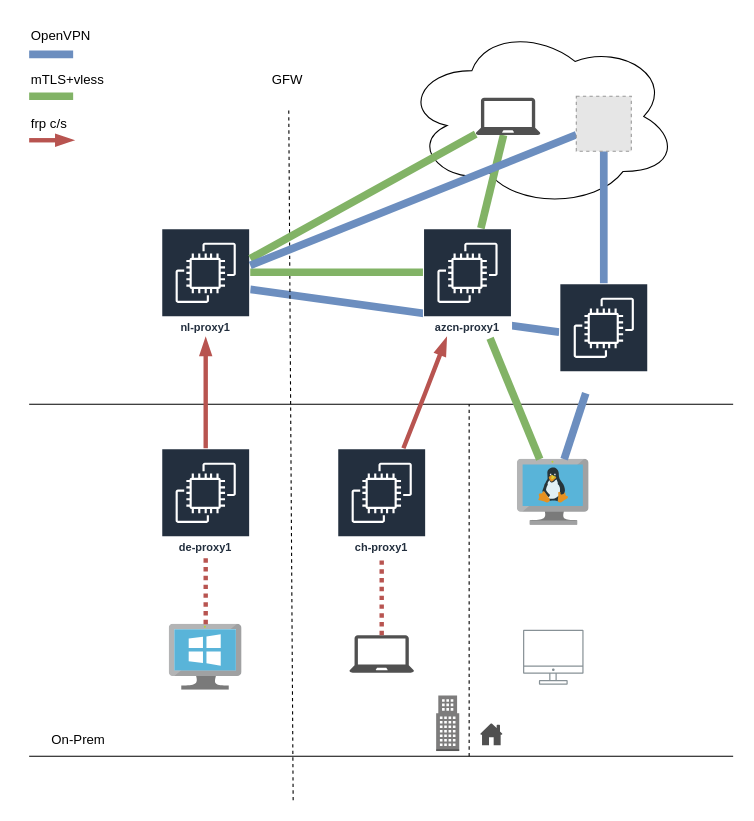
Some shapes in this 754 by 821 pixel diagram are drawn without their labels. Grey dashed boxes stand in for pictures. The shapes that lost their labels are listed below. From the top down, each one's centre as x and y in pixels, then its label:
At (603,337): "er-cn".
At (553,492): "SW1".
